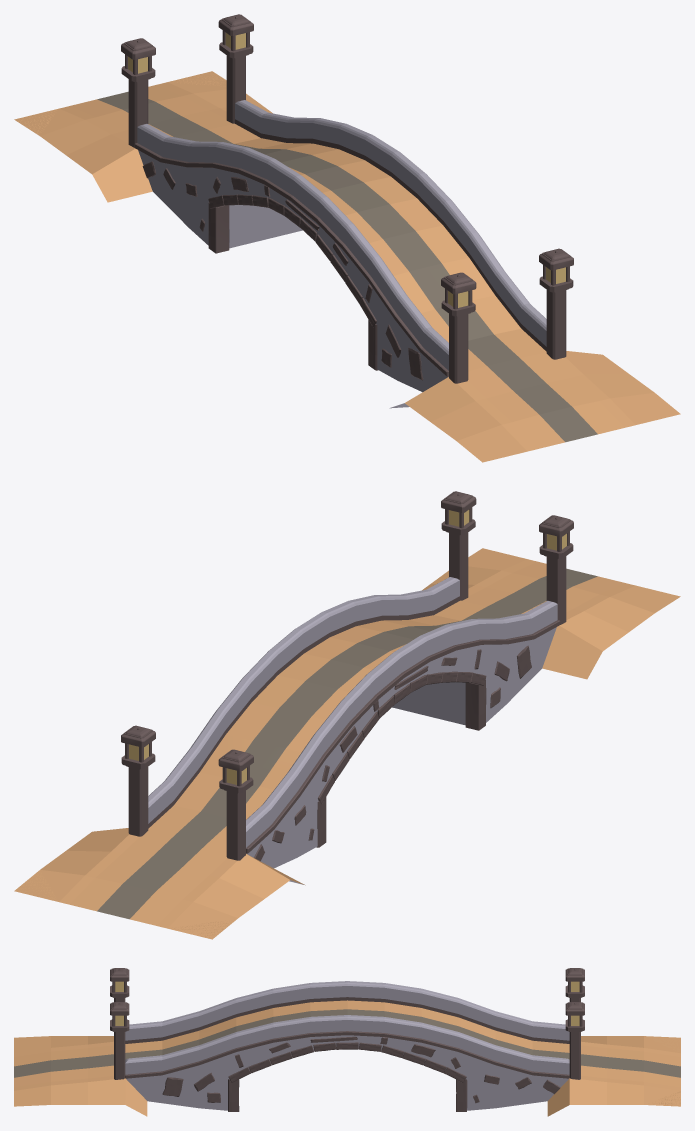
Rendered from PontePedraCores.fbx.
The picture shows the model from 3 angles, top to bottom: view 1: azimuth 30°, elevation 25°; view 2: azimuth 150°, elevation 25°; view 3: azimuth 270°, elevation 25°; orthographic projection. The views are drawn at different scales.
Parts seen in each view (by area): view 1: Cube; view 2: Cube; view 3: Cube.
Boxes of the visible parts, x1,y1,x2,y2 form: Cube: (14,14,680,462); Cube: (14,491,680,939); Cube: (14,968,680,1116).
Size of the model in its own units: 2200 by 1597 by 9000.
